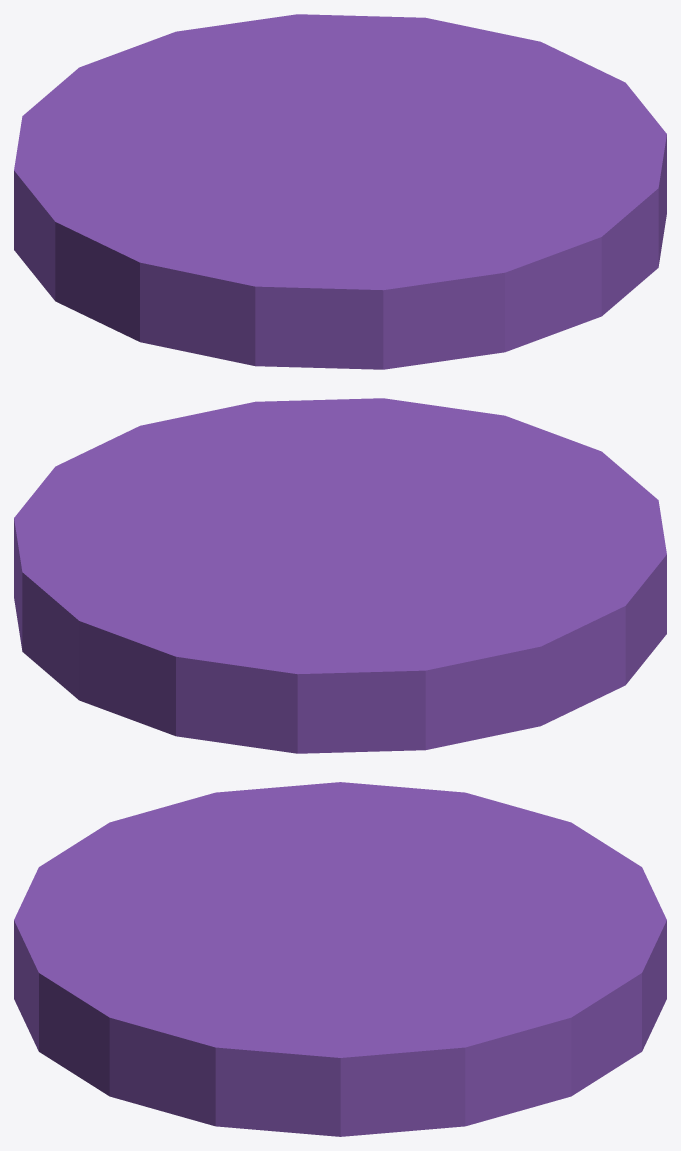
The model's file is petal-base-edited.glb.
3 views of the same model, one above another, from view 1: azimuth 30°, elevation 25°; view 2: azimuth 150°, elevation 25°; view 3: azimuth 270°, elevation 25° (orthographic).
Visible parts, largest first — view 1: 花びら形台座; view 2: 花びら形台座; view 3: 花びら形台座.
Part boxes in pixels (box(x1,y1,x2,y2)): 花びら形台座: box(14, 14, 666, 369); 花びら形台座: box(14, 398, 666, 753); 花びら形台座: box(14, 782, 666, 1136).
Bounding box in the file's own units: 0.045 × 0.006 × 0.045.
